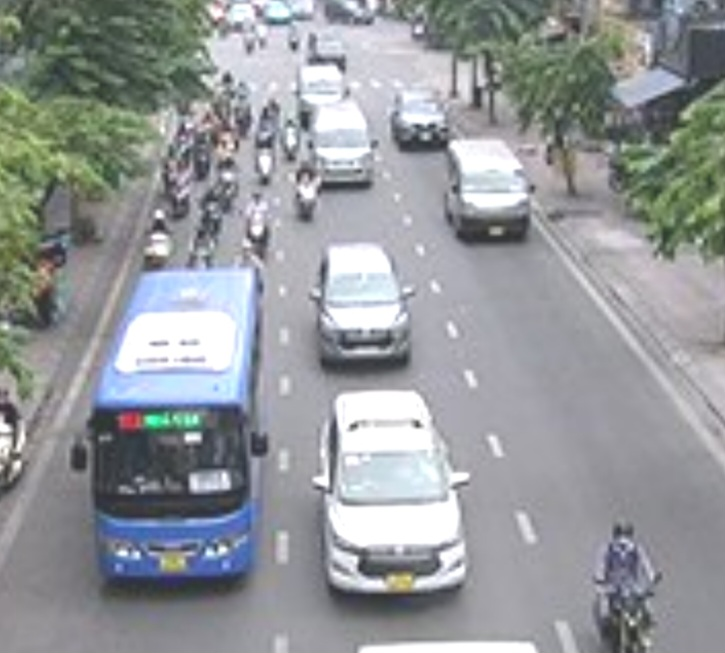car: (321, 390, 470, 603), (318, 241, 411, 369), (443, 139, 530, 243), (314, 107, 372, 188), (391, 84, 450, 150), (296, 65, 347, 107)
